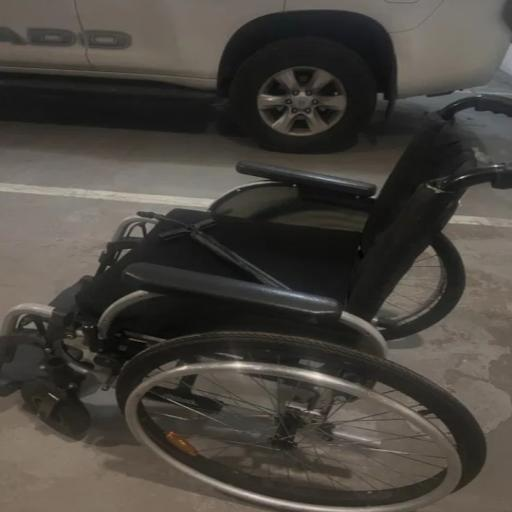bottle: (0, 0, 511, 152)
wheelchair: (0, 97, 511, 511)
